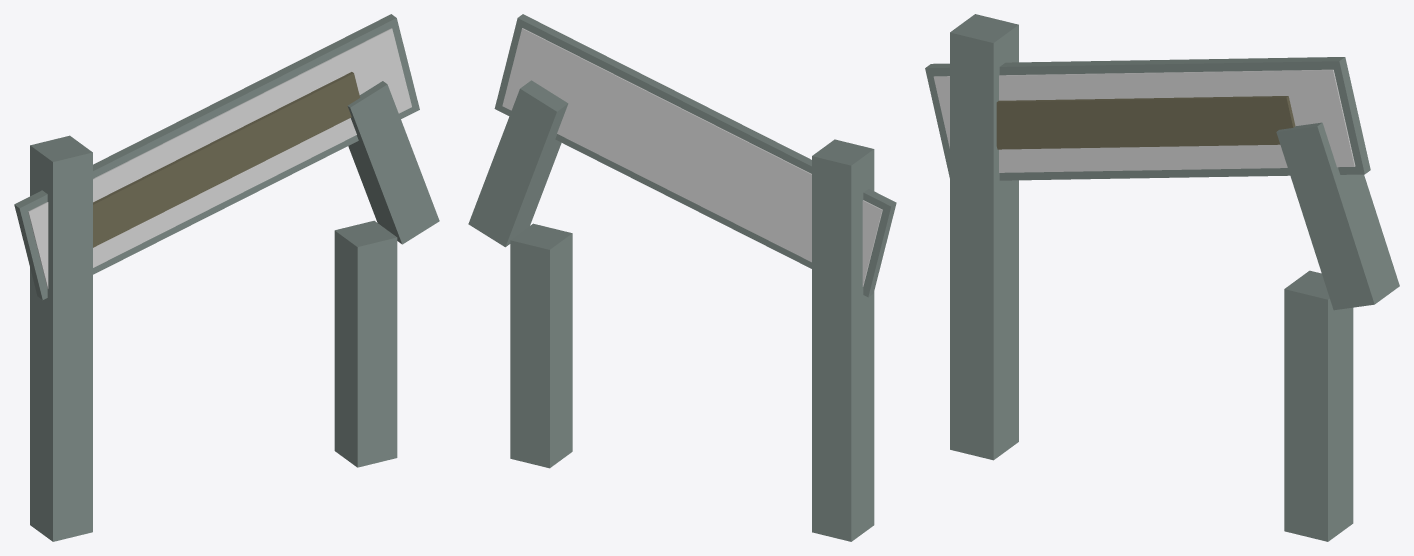
Rendered from SM_CartelEstacion_v2_Torcido_LOD1.fbx.
3 renders of one model, left to right at view 1: azimuth 30°, elevation 25°; view 2: azimuth 150°, elevation 25°; view 3: azimuth 330°, elevation 25°, orthographic. The views are drawn at different scales.
Visible parts, largest first — view 1: SM_cartel_estacion_v2_LOD1; view 2: SM_cartel_estacion_v2_LOD1; view 3: SM_cartel_estacion_v2_LOD1.
Part boxes in pixels (x1,y1,x2,y2): SM_cartel_estacion_v2_LOD1: (14,14,439,541); SM_cartel_estacion_v2_LOD1: (468,14,896,541); SM_cartel_estacion_v2_LOD1: (925,14,1399,541).
Bounding box in the file's own units: 3.54 × 3.55 × 0.34.
